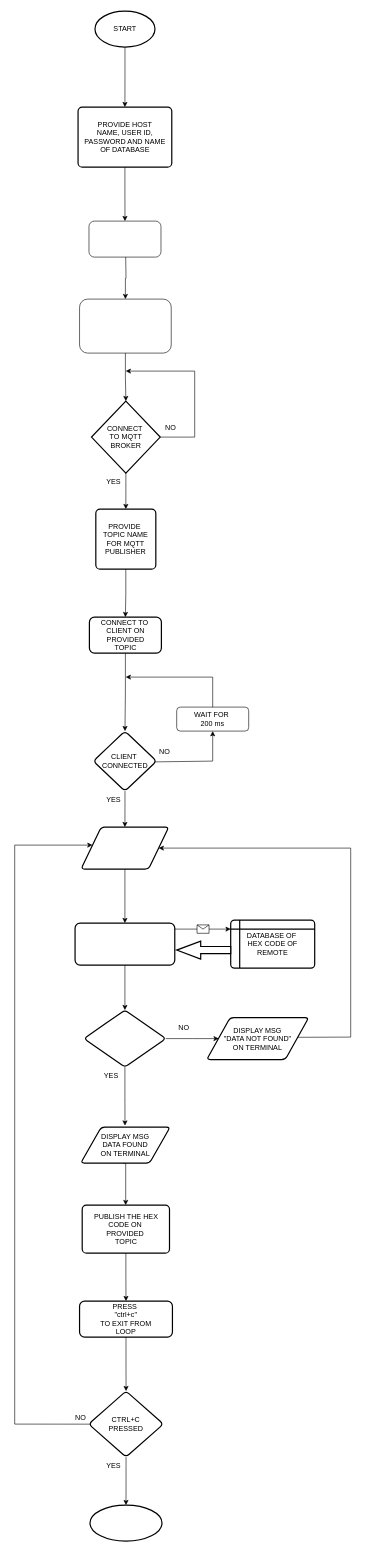
This 366x1552 diagram has some shape labels left out. The box of each missing label's shape, as (x1, y1, x2, y2) in pixels:
CHECK HEX CODE FOR BUTTON NAME ENTERED IN DATABASE: (74, 922, 175, 965)
CONNECT TO DATABASE: (88, 220, 161, 257)
END: (89, 1504, 162, 1541)
ENTER BUTTON NAME FROM USER: (80, 826, 169, 869)
HEX DATA FOUND IN DATABASE: (83, 1009, 166, 1067)
PROVIDE USER id, PASSWORD PORT OF MQTT BROKER: (79, 298, 171, 353)
